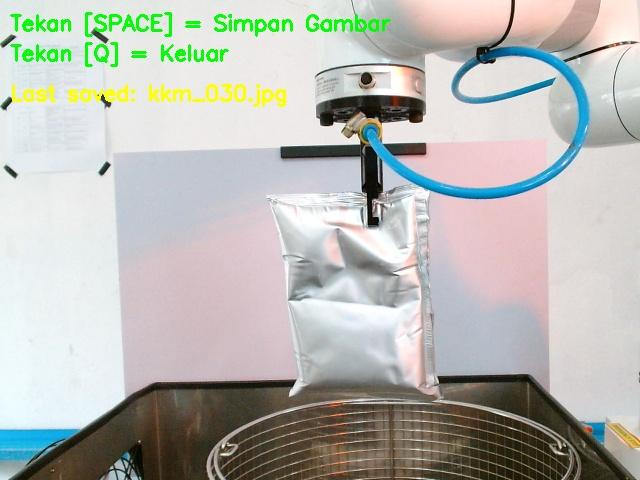retort-pouch: (266, 186, 443, 398)
